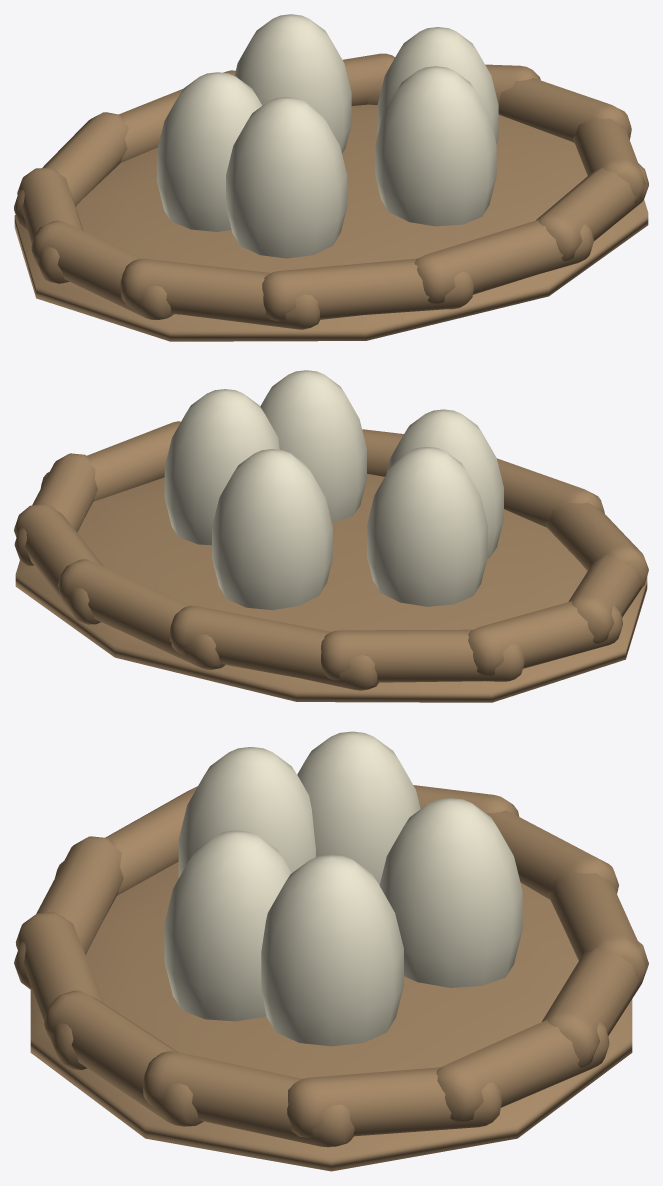
The model's file is dinosaurs-and-prehistoric-life-nest-with-eggs-85398c73__4922.glb.
3 renders of one model, top to bottom at view 1: azimuth 30°, elevation 25°; view 2: azimuth 150°, elevation 25°; view 3: azimuth 270°, elevation 25°, orthographic. The views are drawn at different scales.
Parts seen in each view (by area): view 1: nest-with-eggs; view 2: nest-with-eggs; view 3: nest-with-eggs.
Part boxes in pixels (x1=…): nest-with-eggs: x1=14, y1=14, x2=648, y2=341; nest-with-eggs: x1=14, y1=370, x2=648, y2=702; nest-with-eggs: x1=14, y1=731, x2=648, y2=1171.
Bounding box in the file's own units: 1.28 × 0.4121 × 1.
